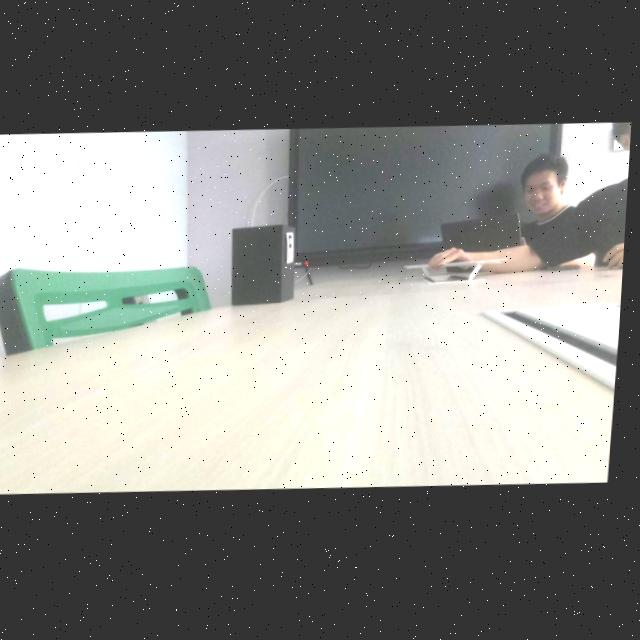F: (291, 237, 295, 262)
